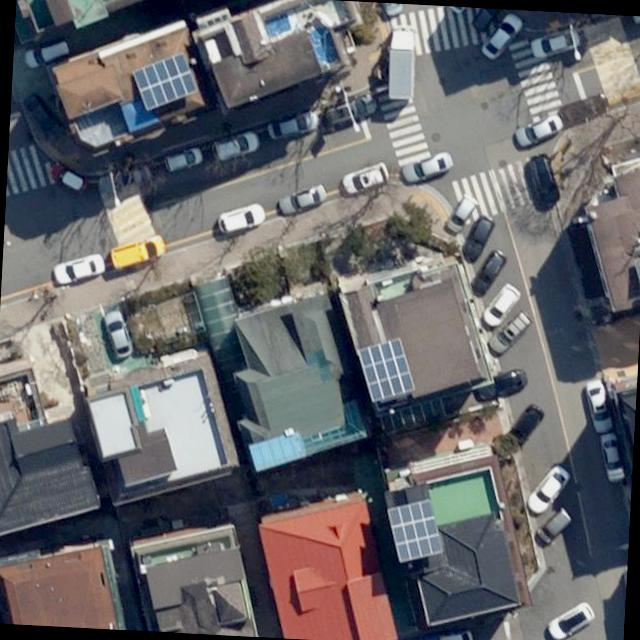solar: (382, 496, 448, 566), (354, 334, 418, 405), (130, 51, 198, 115)
